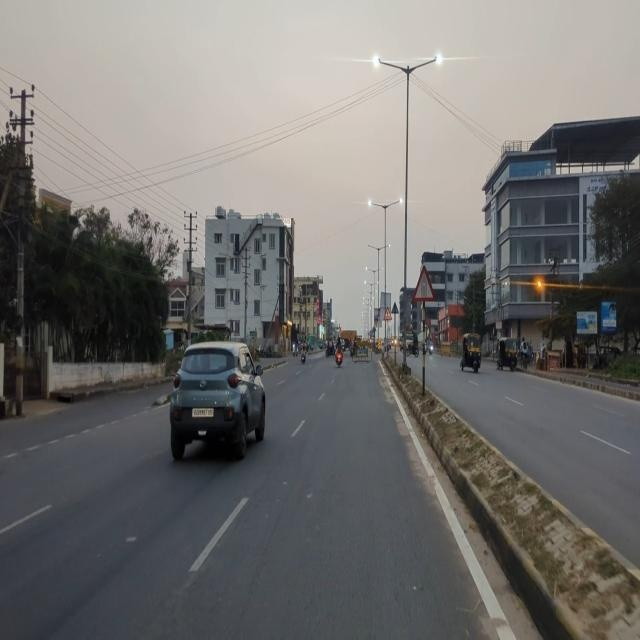bien_nguy_hiem: (413, 265, 436, 303), (383, 306, 392, 322)
